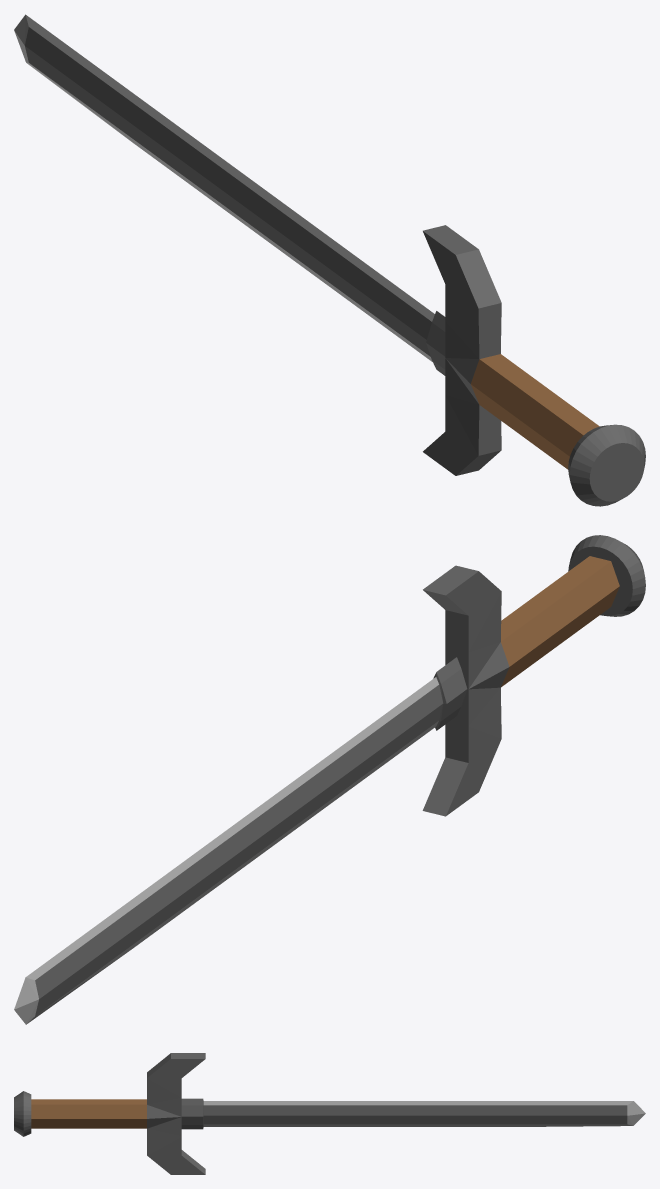
Rendered from Sword.dae.
3 views of the same model, one above another, from view 1: azimuth 30°, elevation 25°; view 2: azimuth 150°, elevation 25°; view 3: azimuth 270°, elevation 25° (orthographic). The views are drawn at different scales.
Parts seen in each view (by area): view 1: Cube; view 2: Cube; view 3: Cube.
Boxes of the visible parts, <box> form: Cube: <box>14,14,645,506</box>; Cube: <box>14,535,645,1024</box>; Cube: <box>14,1053,645,1174</box>.
Size of the model in its own units: 2.65 by 36.32 by 7.35.
Materials: 1 (1 with a texture image).
